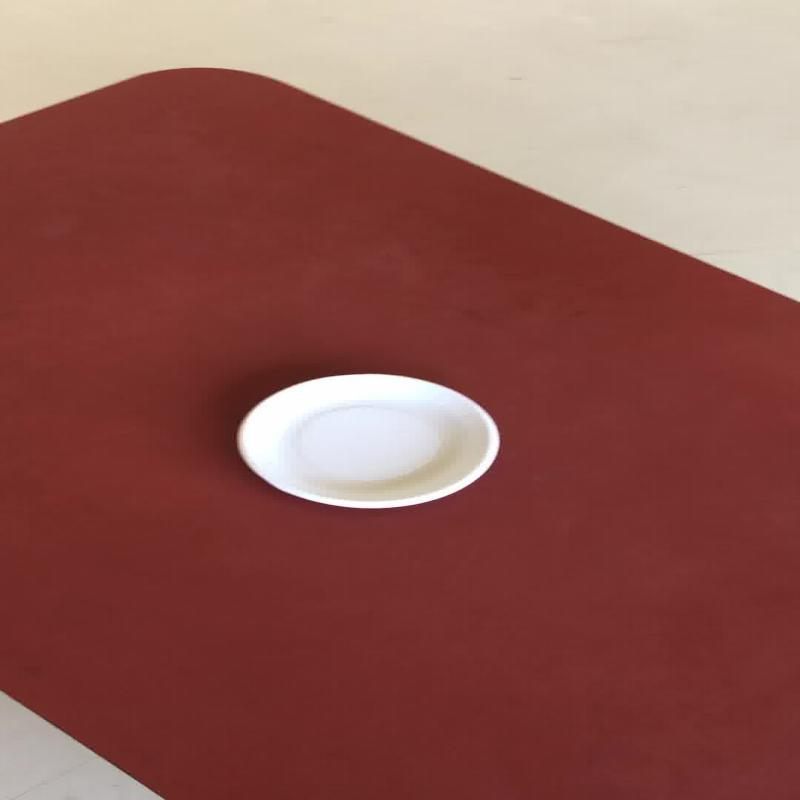plate: (234, 372, 499, 510)
